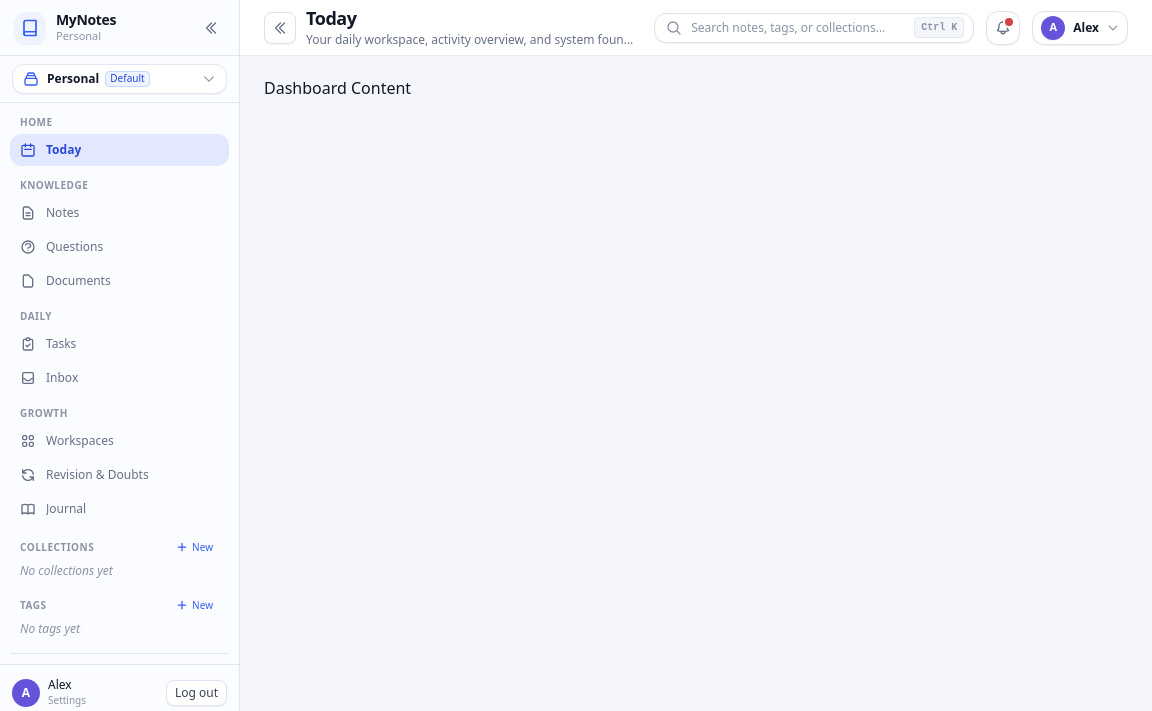
Test case: Global Search Feature Frontend Test Suite › 4. Shell Search Input & Debounce Navigation › debounces header/sidebar search input by 300ms and navigates to /search
Expected: the text "Dashboard Content" is shown, [264,77,411,99]
Type "Redux" into the search field with placeholder "Search notes, tags, or collections..." at (814, 28), box [654,12,974,42]
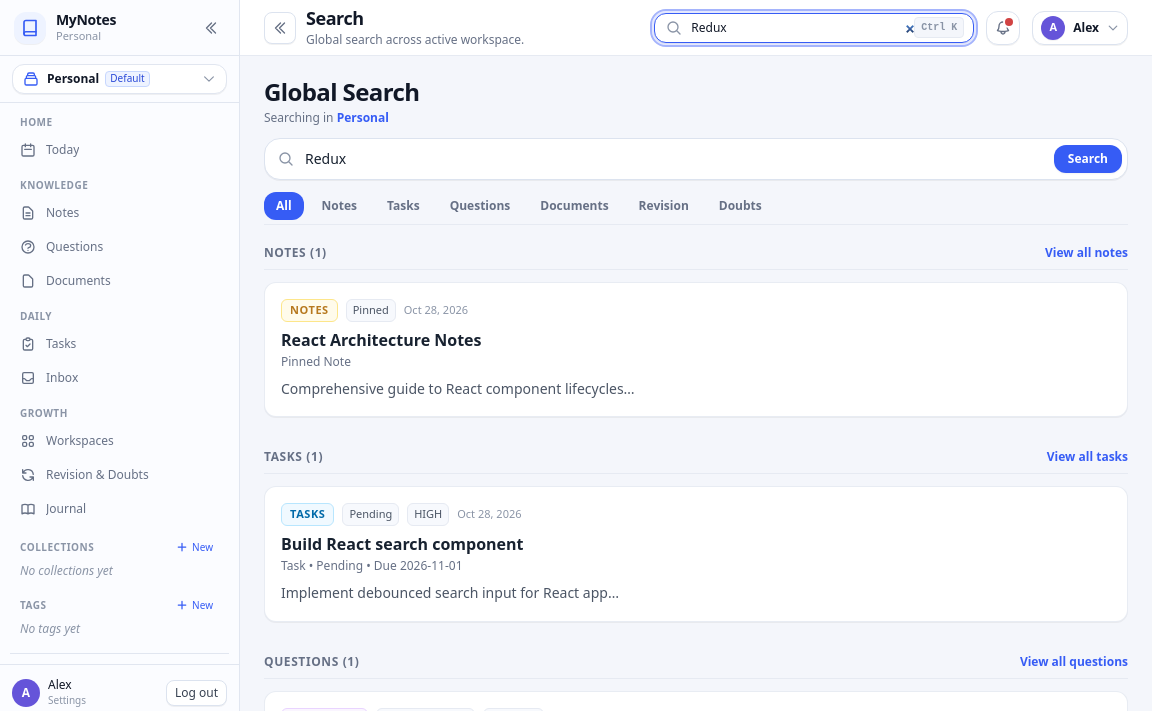
Expected: the heading "Global Search" is shown, [264,76,419,108]
